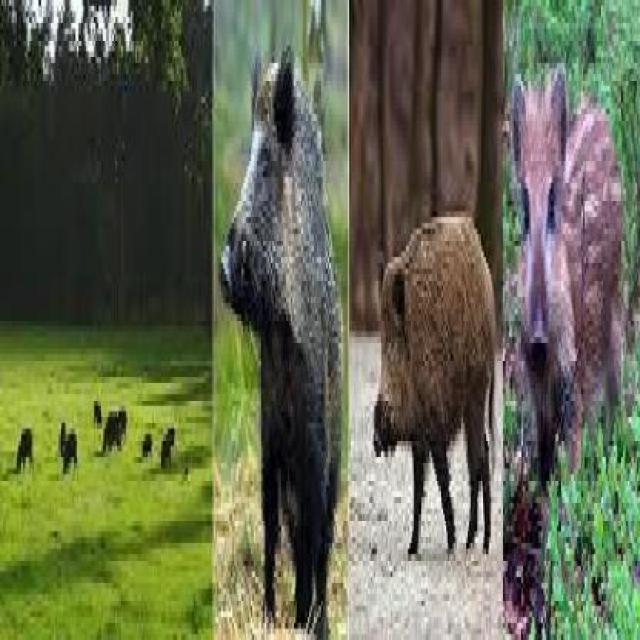wildboar: (219, 32, 344, 640), (509, 61, 628, 502), (370, 204, 499, 556), (13, 407, 36, 496), (101, 404, 130, 461), (54, 398, 71, 471), (62, 422, 80, 483), (161, 420, 177, 478), (140, 418, 154, 474), (91, 398, 102, 439)
